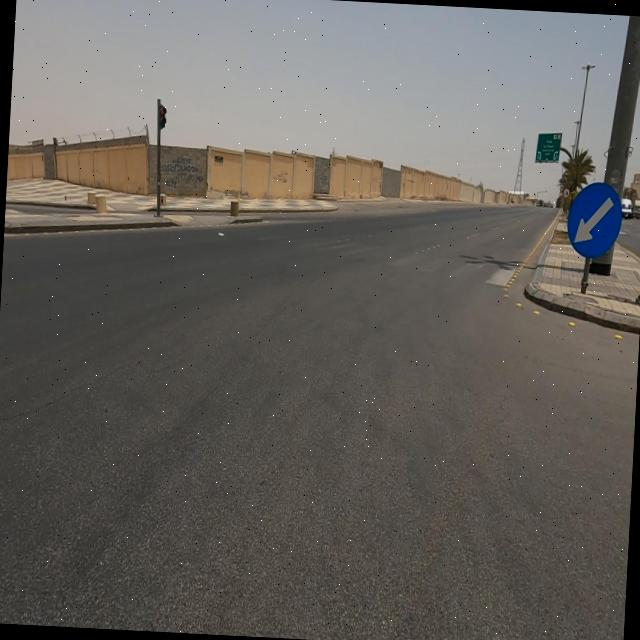Graffiti: (161, 155, 206, 193), (275, 170, 290, 187)
